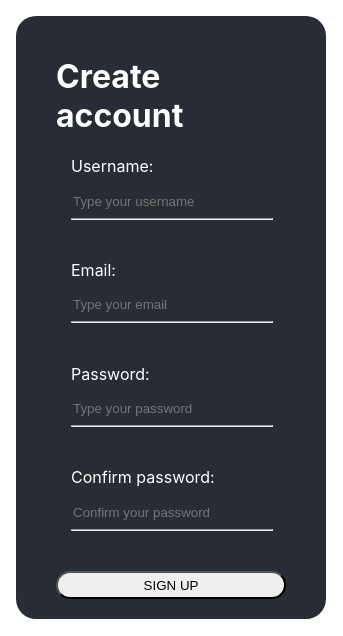
Test case: UserRegisterForm component › handles successful registration without email integration
The image size is (343, 636).
Type "testuser" into the field labelled "Username:".
click(162, 201); type("testuser")  # box [71,193,252,210]
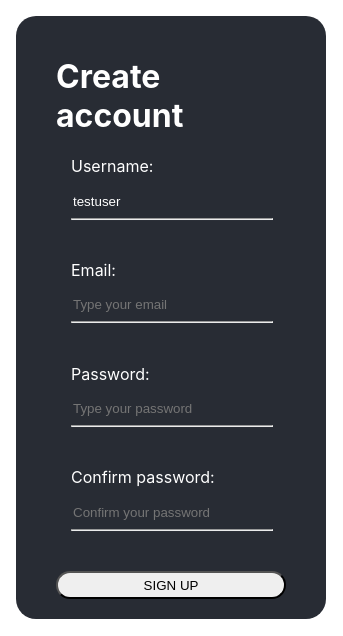
Type "test@example.com" into the field labelled "Email:".
click(162, 305); type("test@example.com")  # box [71,296,252,313]
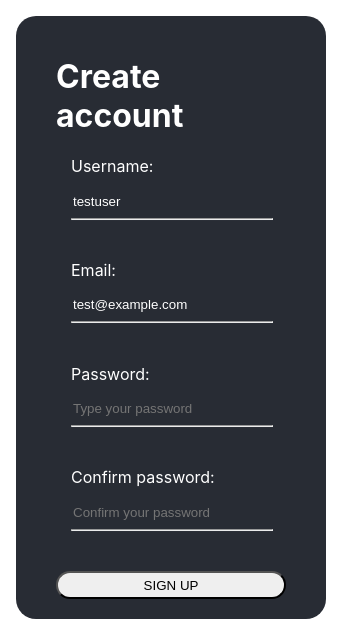
Type "secret" into the password field labelled "Password:".
click(162, 408); type("secret")  # box [71,400,252,417]
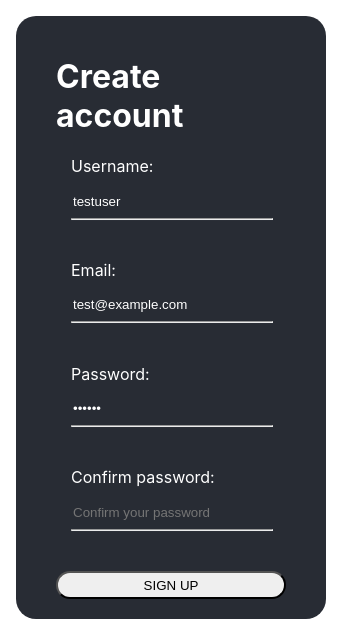
Type "secret" into the password field labelled "Confirm password:".
click(162, 512); type("secret")  # box [71,504,252,521]
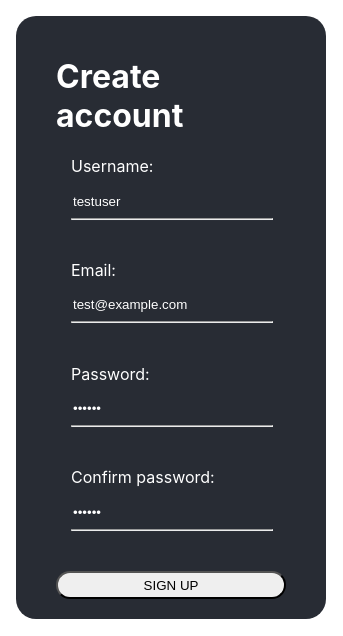
Click the button "SIGN UP".
click(171, 585)  # box [56,571,286,599]
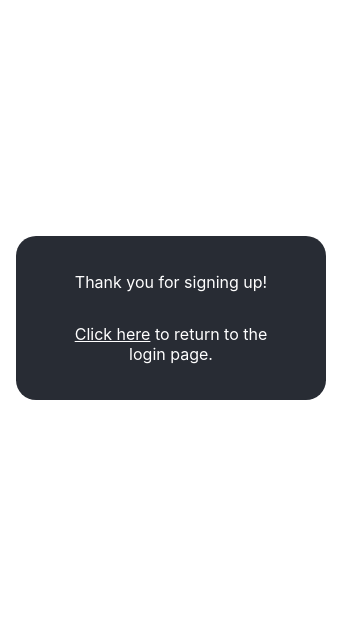
expect the text "Thank you for signing up!" is shown: met, box [75,272,267,292]
